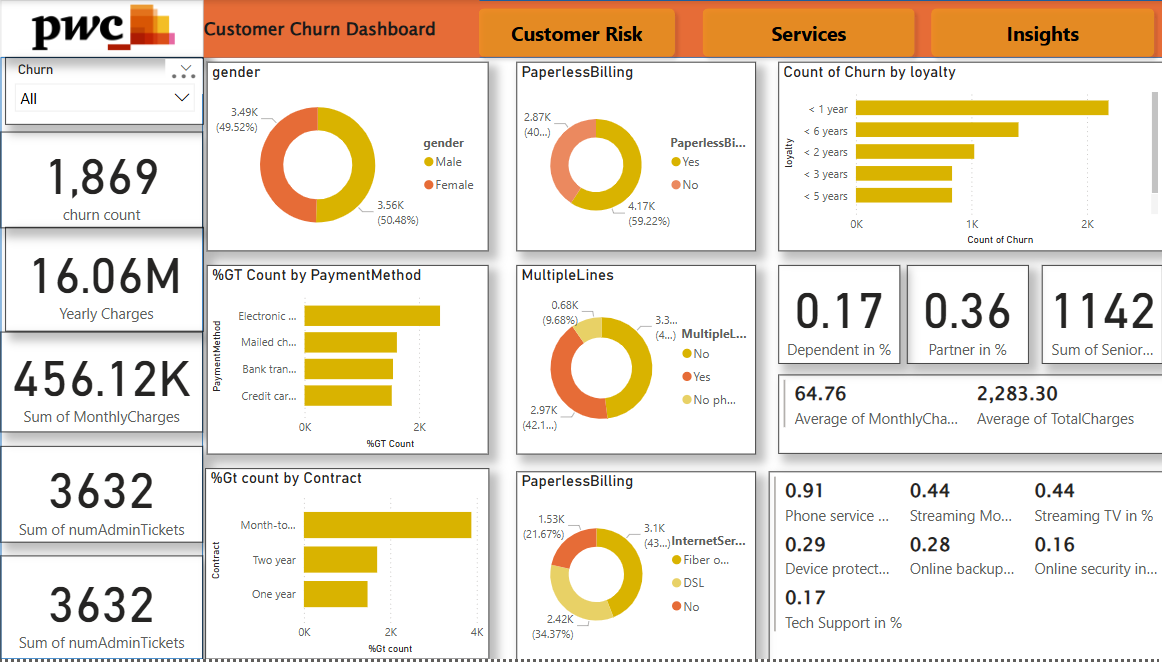

Layout of this report page (visuals, bound fields, positions):
{"tool":"powerbi","page":{"name":"Customer churn","canvas":[1280,720],"ordinal":1},"visuals":[{"type":"shape","box":[10.5,63.2,221.2,657.3],"z":0},{"type":"shape","box":[231.8,0,1049.2,63.2],"z":1000},{"type":"image","box":[10.5,0,221.2,63.2],"z":2000},{"type":"slicer","fields":{"Values":["01 Churn-Dataset.Churn"]},"box":[14.7,63.2,217,73.7],"z":3000},{"type":"card","fields":{"Values":["Measure_Table.churn count"]},"box":[10.5,143.3,221.2,105.3],"z":4000},{"type":"card","fields":{"Values":["Sum(01 Churn-Dataset.TotalCharges)"]},"box":[14.7,248.6,217,113.8],"z":5000},{"type":"card","fields":{"Values":["Sum(01 Churn-Dataset.MonthlyCharges)"]},"box":[10.5,362.4,221.2,109.6],"z":6000},{"type":"card","fields":{"Values":["Sum(01 Churn-Dataset.numAdminTickets)"]},"box":[10.5,486.7,221.2,105.3],"z":7000},{"type":"card","fields":{"Values":["Sum(01 Churn-Dataset.numAdminTickets)"]},"box":[10.5,606.8,221.2,113.8],"z":8000},{"type":"donutChart","title":"gender","fields":{"Category":["01 Churn-Dataset.gender"],"Y":["CountNonNull(01 Churn-Dataset.gender)"]},"box":[236,67.4,307.6,206.5],"z":9000},{"type":"barChart","fields":{"Category":["01 Churn-Dataset.PaymentMethod"],"Y":["CountNonNull(01 Churn-Dataset.PaymentMethod)"]},"box":[236,288.6,307.6,206.5],"z":10000},{"type":"barChart","fields":{"Category":["01 Churn-Dataset.Contract"],"Y":["CountNonNull(01 Churn-Dataset.Contract)"]},"box":[233.9,512,309.7,208.6],"z":11000},{"type":"clusteredBarChart","fields":{"Category":["01 Churn-Dataset.loyalty"],"Y":["CountNonNull(01 Churn-Dataset.Churn)"]},"box":[859.6,67.4,421.4,206.5],"z":12000},{"type":"card","fields":{"Values":["Measure_Table.Partner in %"]},"box":[1000.7,288.6,132.7,107.4],"z":13000},{"type":"card","fields":{"Values":["Sum(01 Churn-Dataset.SeniorCitizen)"]},"box":[1148.2,288.6,132.7,107.4],"z":14000},{"type":"card","fields":{"Values":["Measure_Table.Dependent in %"]},"box":[859.6,288.6,132.7,107.4],"z":15000},{"type":"multiRowCard","fields":{"Values":["Avg(01 Churn-Dataset.MonthlyCharges)","Avg(01 Churn-Dataset.TotalCharges)"]},"box":[859.6,408.7,421.4,86.4],"z":16000},{"type":"donutChart","title":"PaperlessBilling","fields":{"Category":["01 Churn-Dataset.PaperlessBilling"],"Y":["CountNonNull(01 Churn-Dataset.PaperlessBilling)"]},"box":[573.1,67.4,261.2,206.5],"z":17000},{"type":"donutChart","title":"MultipleLines","fields":{"Category":["01 Churn-Dataset.MultipleLines"],"Y":["CountNonNull(01 Churn-Dataset.MultipleLines)"]},"box":[573.1,288.6,261.2,206.5],"z":18000},{"type":"donutChart","title":"PaperlessBilling","fields":{"Category":["01 Churn-Dataset.InternetService"],"Y":["CountNonNull(01 Churn-Dataset.InternetService)"]},"box":[573.1,514.1,261.2,206.5],"z":19000},{"type":"multiRowCard","fields":{"Values":["Measure_Table.Phone service in %","Measure_Table.Streaming Movies in %","Measure_Table.Streaming TV in %","Measure_Table.Device protection in %","Measure_Table.Online backup in %","Measure_Table.Online security in %","Measure_Table.Tech Support in %"]},"box":[849.1,514.1,431.9,206.5],"z":20000},{"type":"shape","box":[231.8,0,301.3,63.2],"z":21000},{"type":"actionButton","box":[523.5,0,232.3,71.1],"z":22000},{"type":"actionButton","box":[767.9,0,249.6,71.1],"z":23000},{"type":"actionButton","box":[1017.5,0,261.7,71.1],"z":24000}]}

Visuals, with their boxes in screenshot pixels (x1, y1, x2, y2), scaled from the page's 1280x720 canvas onto the 1162x662 screenshot:
shape: pyautogui.locateOnScreen(10, 58, 210, 661)
shape: pyautogui.locateOnScreen(210, 0, 1161, 58)
image: pyautogui.locateOnScreen(10, 0, 210, 58)
slicer - 01 Churn-Dataset.Churn: pyautogui.locateOnScreen(13, 58, 210, 126)
card - Measure_Table.churn count: pyautogui.locateOnScreen(10, 132, 210, 229)
card - Sum(01 Churn-Dataset.TotalCharges): pyautogui.locateOnScreen(13, 229, 210, 333)
card - Sum(01 Churn-Dataset.MonthlyCharges): pyautogui.locateOnScreen(10, 333, 210, 434)
card - Sum(01 Churn-Dataset.numAdminTickets): pyautogui.locateOnScreen(10, 447, 210, 544)
card - Sum(01 Churn-Dataset.numAdminTickets): pyautogui.locateOnScreen(10, 558, 210, 661)
"gender" donutChart: pyautogui.locateOnScreen(214, 62, 493, 252)
barChart - 01 Churn-Dataset.PaymentMethod x CountNonNull(01 Churn-Dataset.PaymentMethod): pyautogui.locateOnScreen(214, 265, 493, 455)
barChart - 01 Churn-Dataset.Contract x CountNonNull(01 Churn-Dataset.Contract): pyautogui.locateOnScreen(212, 471, 493, 661)
clusteredBarChart - 01 Churn-Dataset.loyalty x CountNonNull(01 Churn-Dataset.Churn): pyautogui.locateOnScreen(780, 62, 1161, 252)
card - Measure_Table.Partner in %: pyautogui.locateOnScreen(908, 265, 1029, 364)
card - Sum(01 Churn-Dataset.SeniorCitizen): pyautogui.locateOnScreen(1042, 265, 1161, 364)
card - Measure_Table.Dependent in %: pyautogui.locateOnScreen(780, 265, 901, 364)
multiRowCard - Avg(01 Churn-Dataset.MonthlyCharges) x Avg(01 Churn-Dataset.TotalCharges): pyautogui.locateOnScreen(780, 376, 1161, 455)
"PaperlessBilling" donutChart: pyautogui.locateOnScreen(520, 62, 757, 252)
"MultipleLines" donutChart: pyautogui.locateOnScreen(520, 265, 757, 455)
"PaperlessBilling" donutChart: pyautogui.locateOnScreen(520, 473, 757, 661)
multiRowCard - Measure_Table.Phone service in % x Measure_Table.Streaming Movies in %: pyautogui.locateOnScreen(771, 473, 1161, 661)
shape: pyautogui.locateOnScreen(210, 0, 484, 58)
actionButton: pyautogui.locateOnScreen(475, 0, 686, 65)
actionButton: pyautogui.locateOnScreen(697, 0, 924, 65)
actionButton: pyautogui.locateOnScreen(924, 0, 1161, 65)
